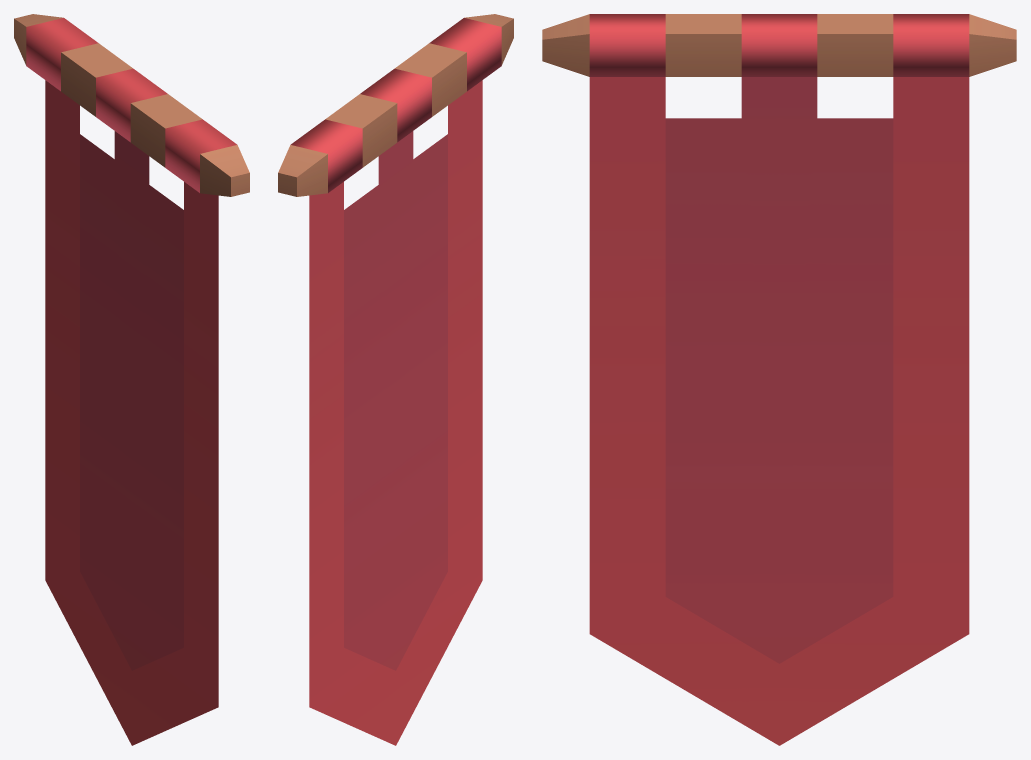
The model's file is red_banner.glb.
3 renders of one model, left to right at view 1: azimuth 30°, elevation 25°; view 2: azimuth 150°, elevation 25°; view 3: azimuth 270°, elevation 25°, orthographic. The views are drawn at different scales.
Visible parts, largest first — view 1: banner-red; view 2: banner-red; view 3: banner-red.
Boxes of the visible parts, box(x1,y1,x2,y2) form: banner-red: box(14, 14, 249, 745); banner-red: box(278, 14, 513, 745); banner-red: box(542, 14, 1016, 745).
Bounding box in the file's own units: 0.05 × 0.8394 × 0.5.
1 material, 1 textured.
